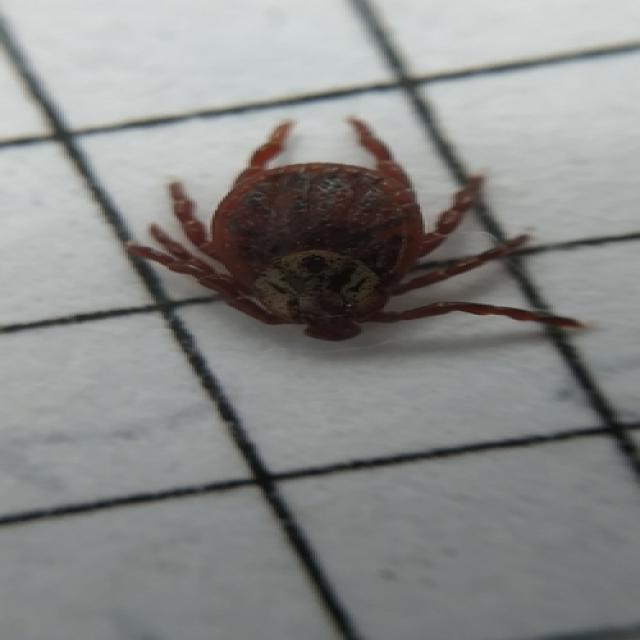Dermacentor Reticulatus-F: (128, 115, 586, 343)
